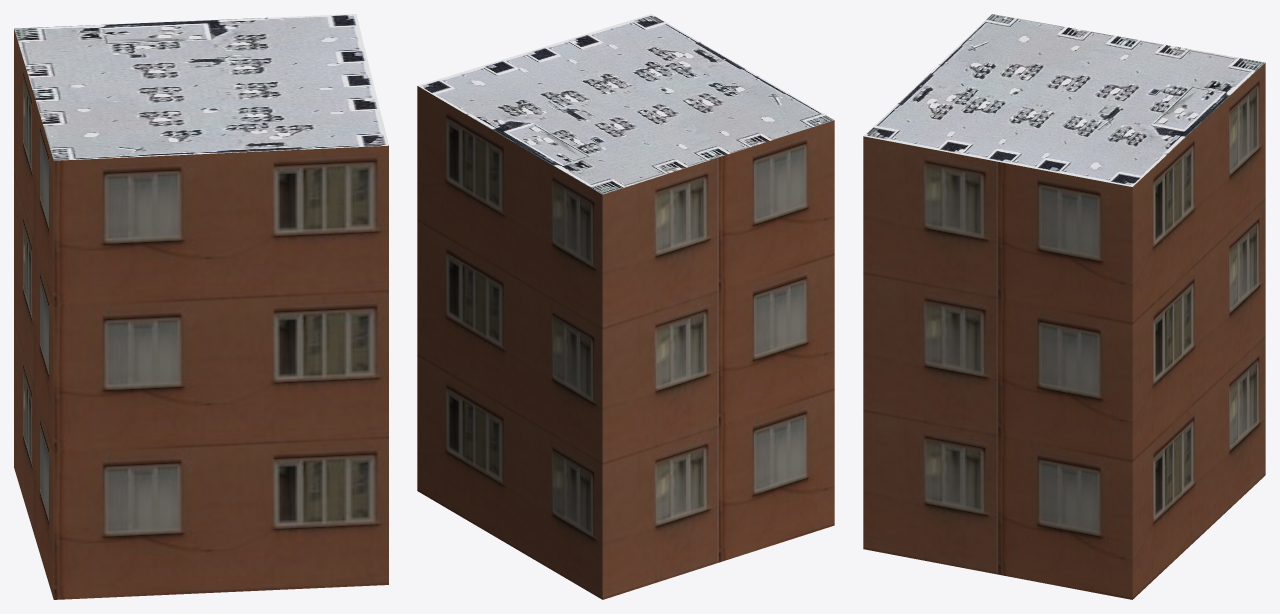
The model's file is ResTex__5016.fbx.
The picture shows the model from 3 angles, left to right: view 1: azimuth 30°, elevation 25°; view 2: azimuth 150°, elevation 25°; view 3: azimuth 270°, elevation 25°; orthographic projection. The views are drawn at different scales.
Parts seen in each view (by area): view 1: CityEngineMaterial_20_m, CityEngineMaterial_4_m; view 2: CityEngineMaterial_20_m, CityEngineMaterial_4_m; view 3: CityEngineMaterial_20_m, CityEngineMaterial_4_m.
Boxes of the visible parts, x1,y1,x2,y2 form: CityEngineMaterial_20_m: (14, 29, 388, 599); CityEngineMaterial_4_m: (14, 14, 388, 160); CityEngineMaterial_20_m: (417, 86, 834, 599); CityEngineMaterial_4_m: (417, 14, 833, 194); CityEngineMaterial_20_m: (863, 63, 1265, 599); CityEngineMaterial_4_m: (864, 14, 1265, 186).
Size of the model in its own units: 8.09 by 9 by 7.95.
Materials: 2 (2 with a texture image).
